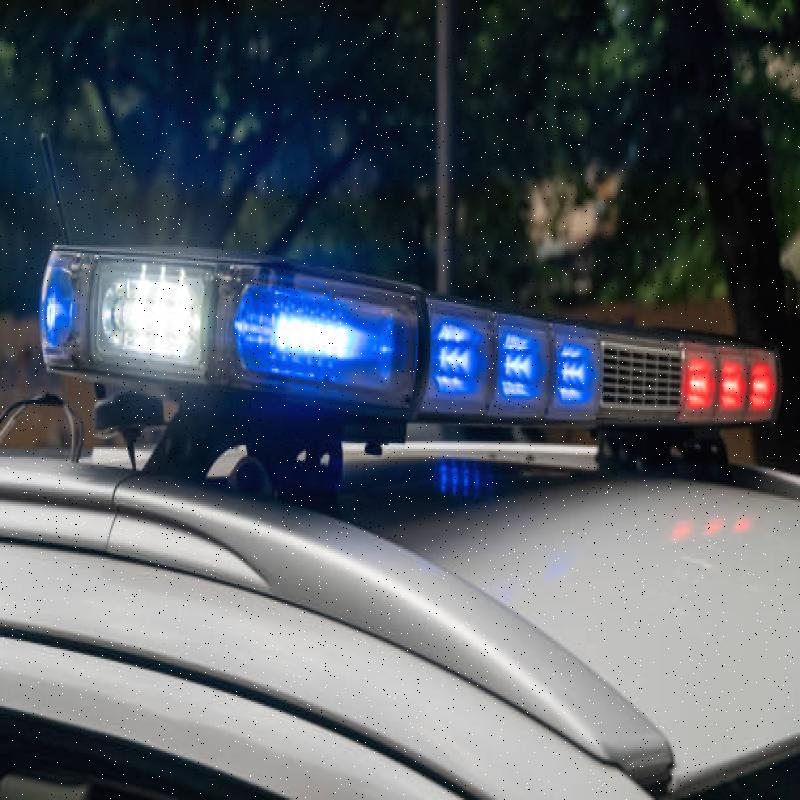AmbulanceSiren: (28, 214, 800, 496)
